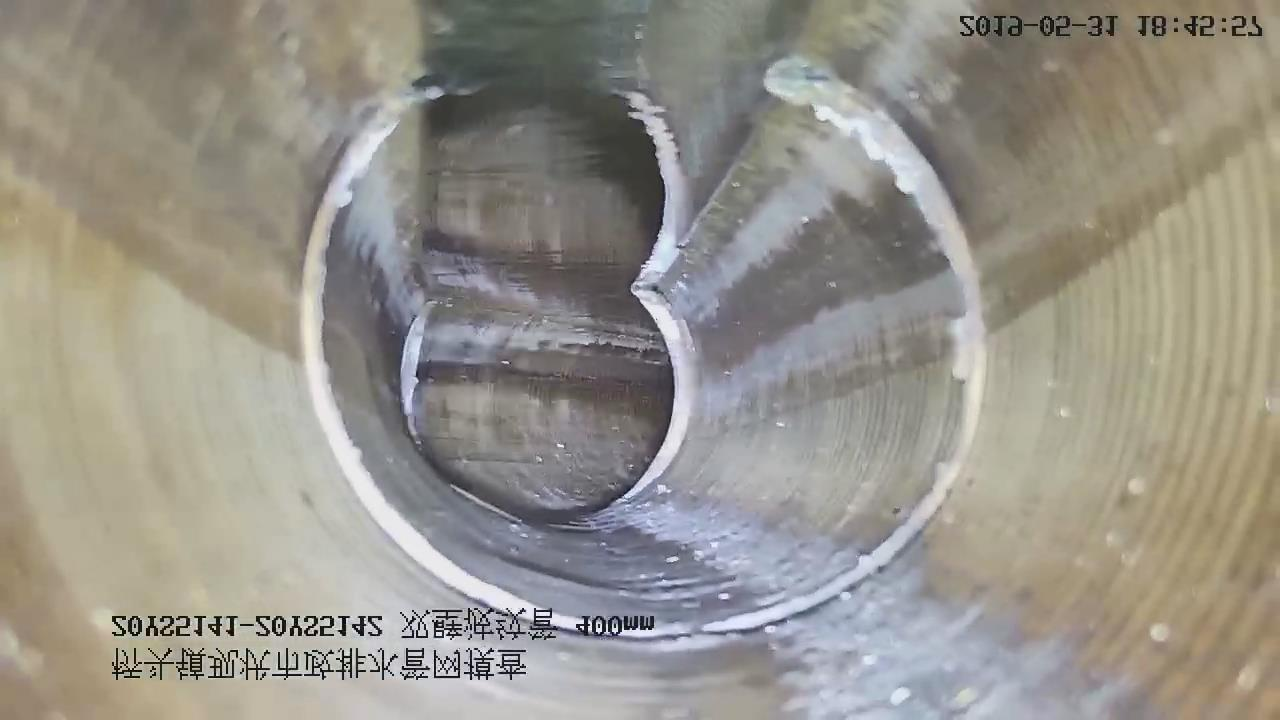CKTJ: (300, 59, 986, 639), (612, 287, 698, 504), (400, 301, 432, 443)
